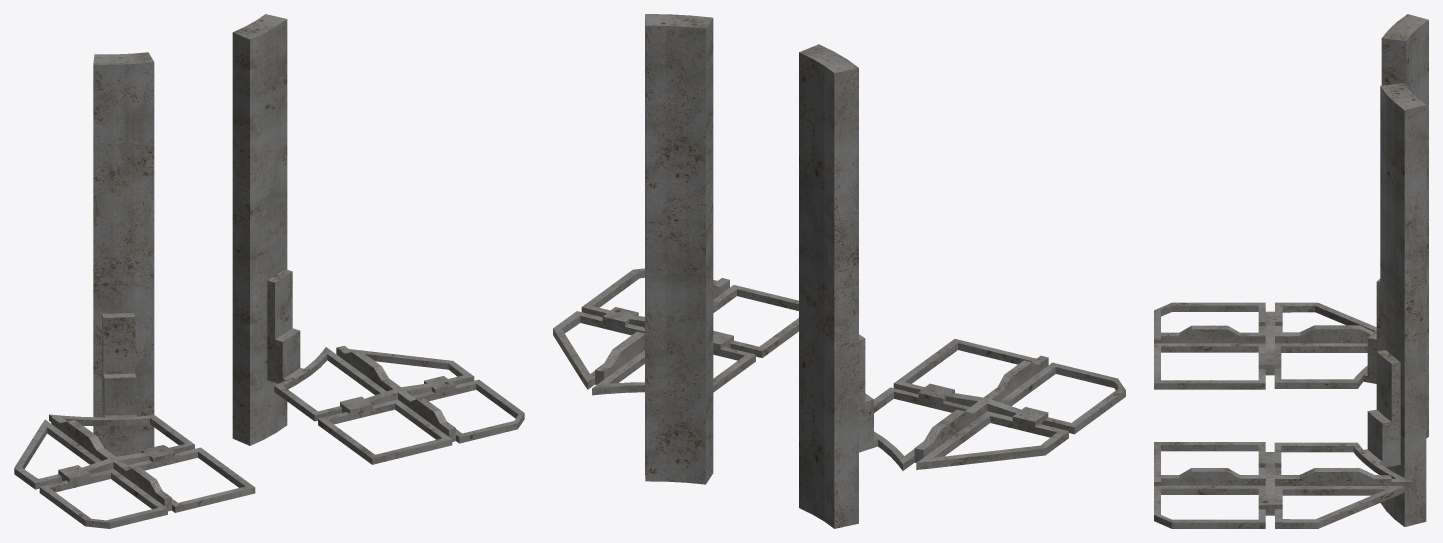
Rendered from item remover2.glb.
3 renders of one model, left to right at view 1: azimuth 30°, elevation 25°; view 2: azimuth 150°, elevation 25°; view 3: azimuth 270°, elevation 25°, orthographic. The views are drawn at different scales.
Parts seen in each view (by area): view 1: Cylinder_004, Cylinder_001; view 2: Cylinder_004, Cylinder_001; view 3: Cylinder_001, Cylinder_004.
Boxes of the visible parts, x1,y1,x2,y2 form: Cylinder_004: (93, 14, 287, 456); Cylinder_001: (14, 269, 524, 528); Cylinder_004: (645, 14, 858, 528); Cylinder_001: (553, 268, 1125, 470); Cylinder_001: (1154, 278, 1412, 528); Cylinder_004: (1380, 14, 1428, 526).
Bounding box in the file's own units: 12.38 × 10.94 × 6.54.
Materials: 1 (1 with a texture image).
